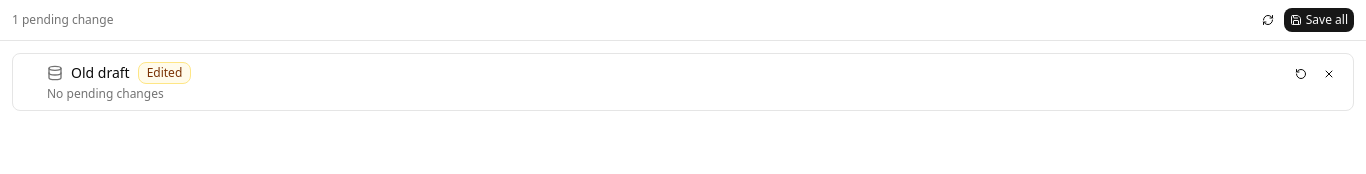
Test case: Canvas read and mutation ordering › discards a poll that completes after commit
Expected: the text "Old draft" is shown, [71,63,130,83]
Click the button with test id "canvas-commit-button": (1319, 20) [1284,8,1354,32]
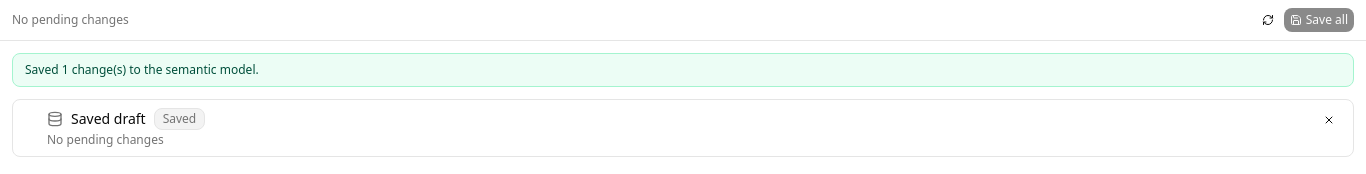
Now the text "Saved draft" is shown, box [71,109,146,129]
Now the button "Old draft" is gone
Now the text with test id "canvas-pending-count" reads "No pending changes", box [12,11,129,28]
